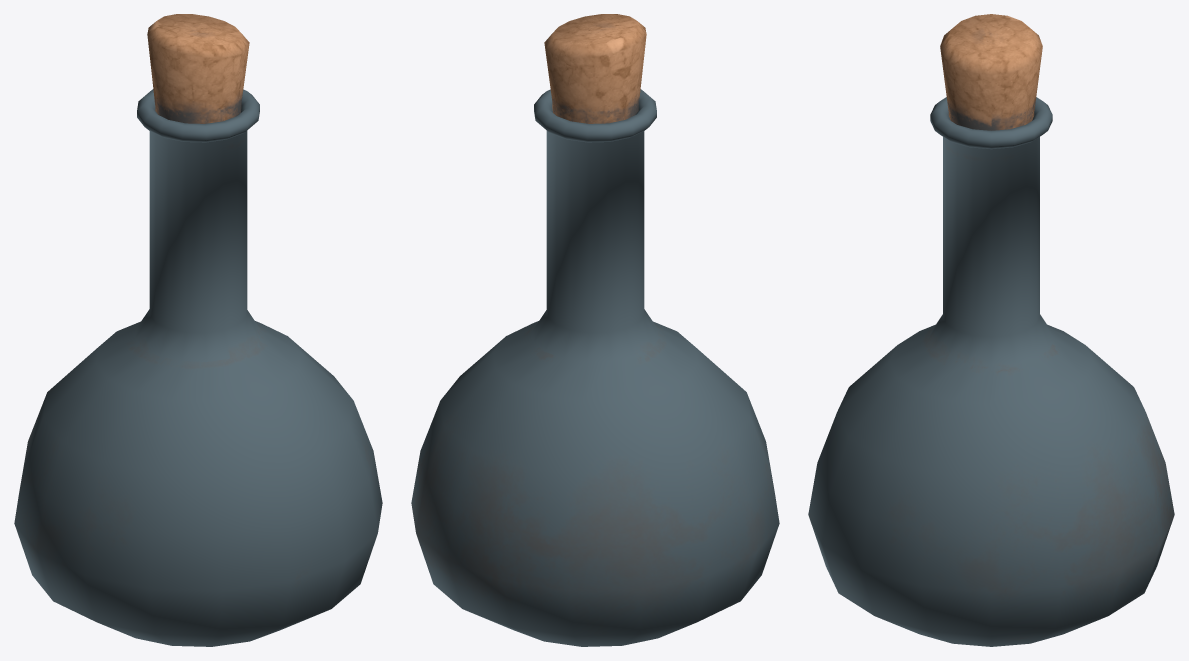
File: potion1_test.fbx
The picture shows the model from 3 angles, left to right: view 1: azimuth 30°, elevation 25°; view 2: azimuth 150°, elevation 25°; view 3: azimuth 270°, elevation 25°; orthographic projection.
Visible parts, largest first — view 1: Potion_LP.003, Potion_LP.004; view 2: Potion_LP.003, Potion_LP.004; view 3: Potion_LP.003, Potion_LP.004.
Boxes of the visible parts, x1=… form: Potion_LP.003: x1=14, y1=89, x2=382, y2=646; Potion_LP.004: x1=147, y1=14, x2=249, y2=123; Potion_LP.003: x1=411, y1=89, x2=779, y2=646; Potion_LP.004: x1=544, y1=14, x2=646, y2=123; Potion_LP.003: x1=808, y1=97, x2=1174, y2=646; Potion_LP.004: x1=940, y1=14, x2=1042, y2=130.
Size of the model in its own units: 0.1174 by 0.1174 by 0.2023.
1 material, 1 textured.
